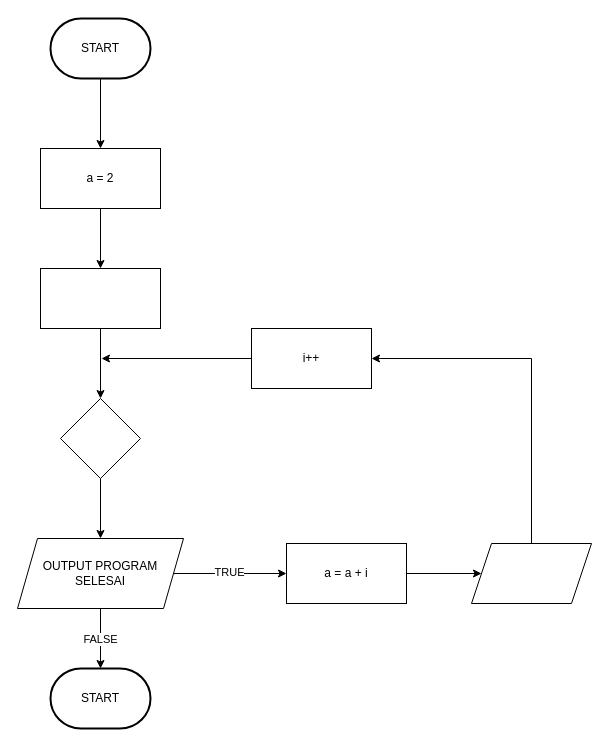
Some shapes in this 609 by 746 pixel diagram are drawn without their labels. Each missing label, with the centre of its shape:
"i < 13" belongs at [100,438].
"i = 0" belongs at [100,298].
"OUTPUT a" belongs at [531,573].
